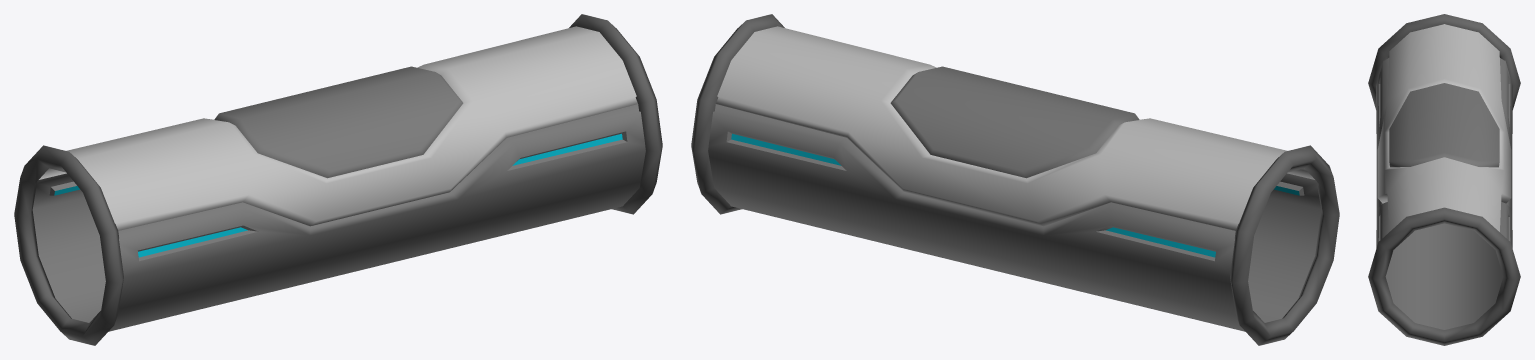
Rendered from pipe_004.fbx.
The picture shows the model from 3 angles, left to right: view 1: azimuth 30°, elevation 25°; view 2: azimuth 150°, elevation 25°; view 3: azimuth 270°, elevation 25°; orthographic projection. The views are drawn at different scales.
Visible parts, largest first — view 1: pipe_004; view 2: pipe_004; view 3: pipe_004.
Boxes of the visible parts, box(x1,y1,x2,y2) form: pipe_004: box(14, 14, 662, 345); pipe_004: box(691, 14, 1339, 345); pipe_004: box(1368, 14, 1520, 345).
Bounding box in the file's own units: 663 × 214 × 214.
